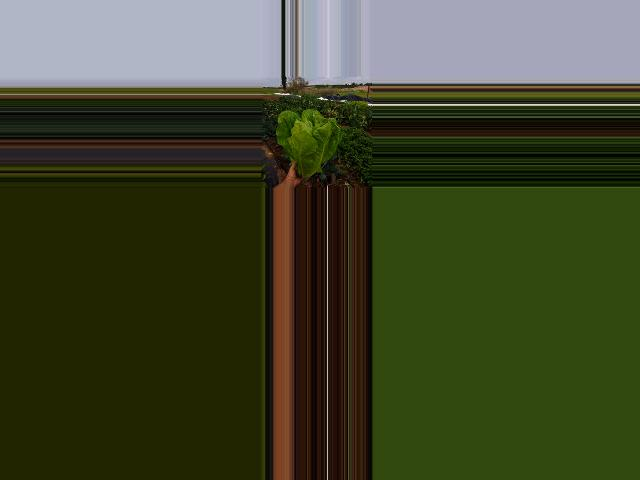lettuce: (272, 108, 343, 182)
